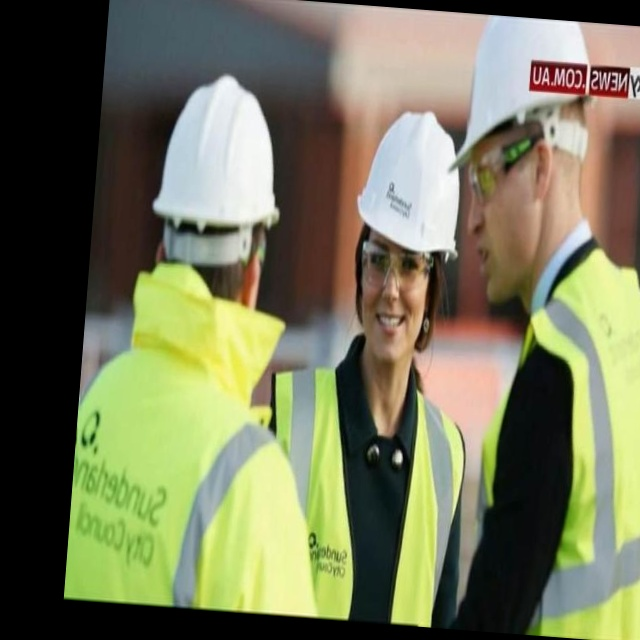Con_Casco: (339, 119, 459, 360)
Con_Chaleco: (265, 370, 467, 629)
